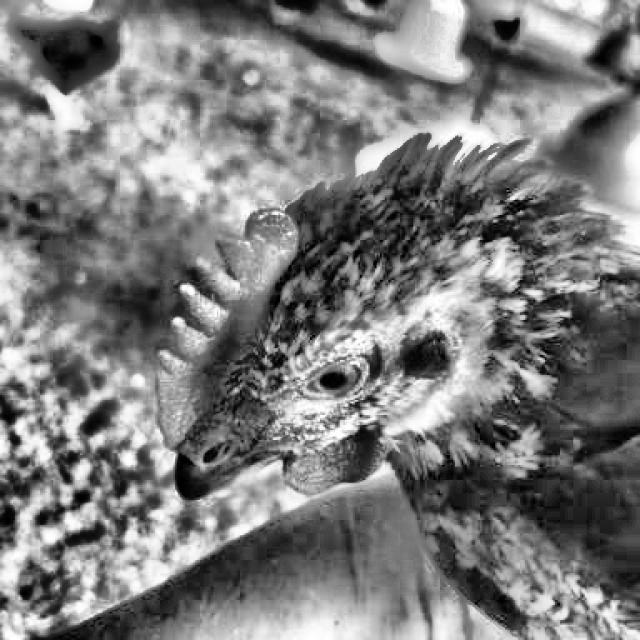Healthy: (285, 340, 403, 408)
